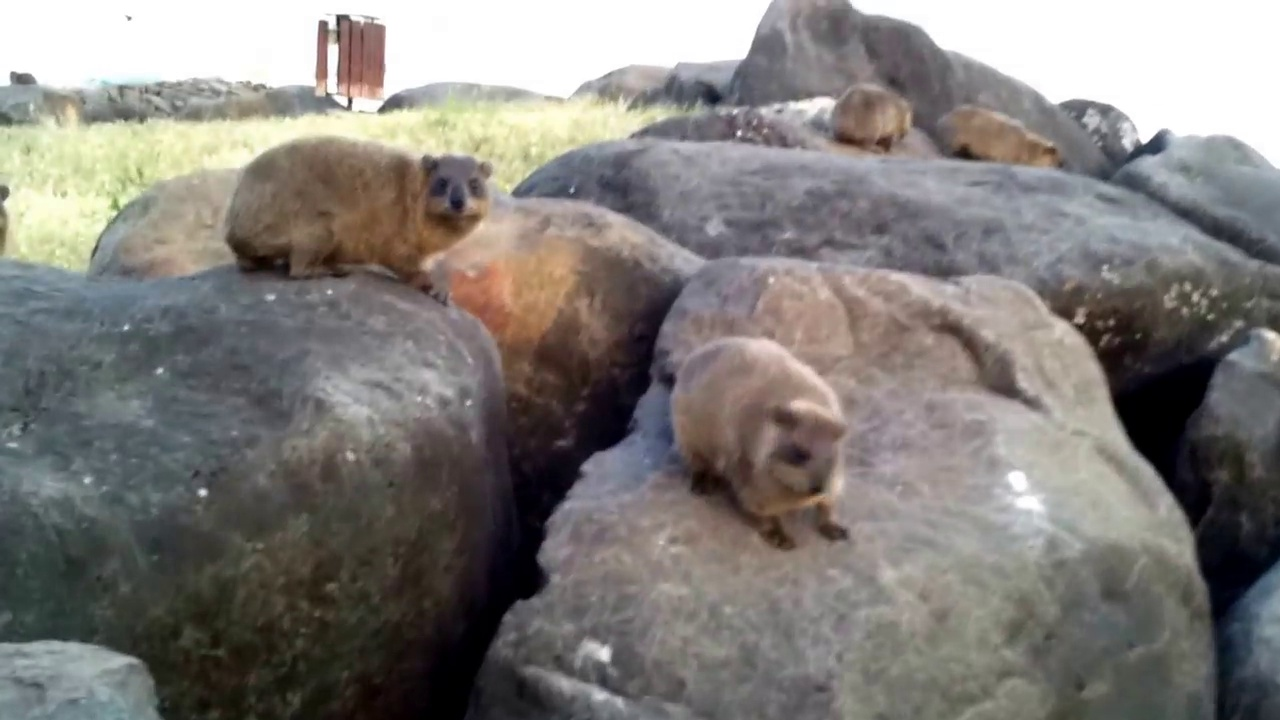Rock Hyrex: (222, 131, 498, 305), (668, 334, 860, 552), (932, 99, 1067, 172), (824, 79, 918, 156)
